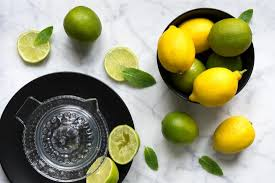Lemon: (190, 66, 241, 108), (208, 115, 260, 152), (161, 27, 199, 77), (156, 110, 202, 146), (61, 6, 103, 39)
